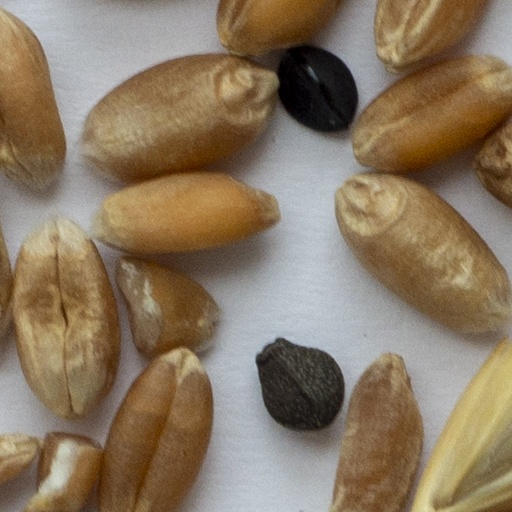Wheat-grain-damaged-poly: (115, 259, 227, 356), (12, 430, 102, 511)
